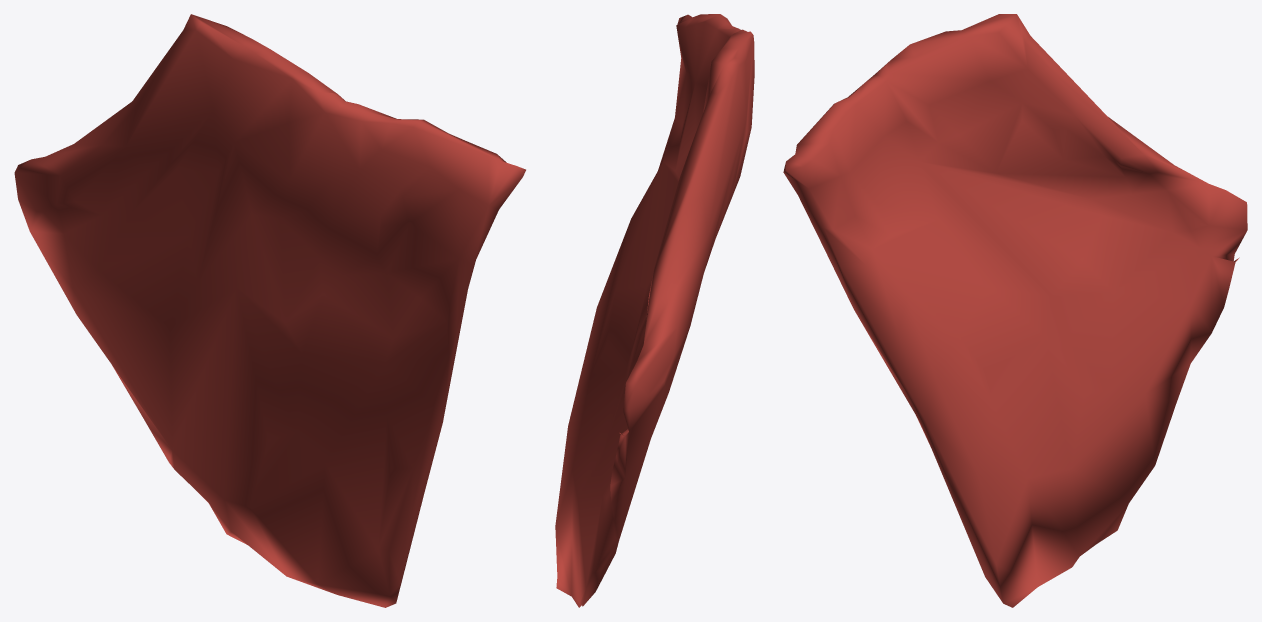
File: musculos-thyrohyoid-muscle-r.glb
3 views of the same model, side by side, from view 1: azimuth 30°, elevation 25°; view 2: azimuth 150°, elevation 25°; view 3: azimuth 270°, elevation 25° (orthographic). The views are drawn at different scales.
Parts seen in each view (by area): view 1: Thyrohyoid muscle.r; view 2: Thyrohyoid muscle.r; view 3: Thyrohyoid muscle.r.
Boxes of the visible parts, <box> form: Thyrohyoid muscle.r: <box>14,14,525,607</box>; Thyrohyoid muscle.r: <box>555,14,754,607</box>; Thyrohyoid muscle.r: <box>783,14,1247,607</box>.
Bounding box in the file's own units: 0.0123 × 0.0308 × 0.025.
